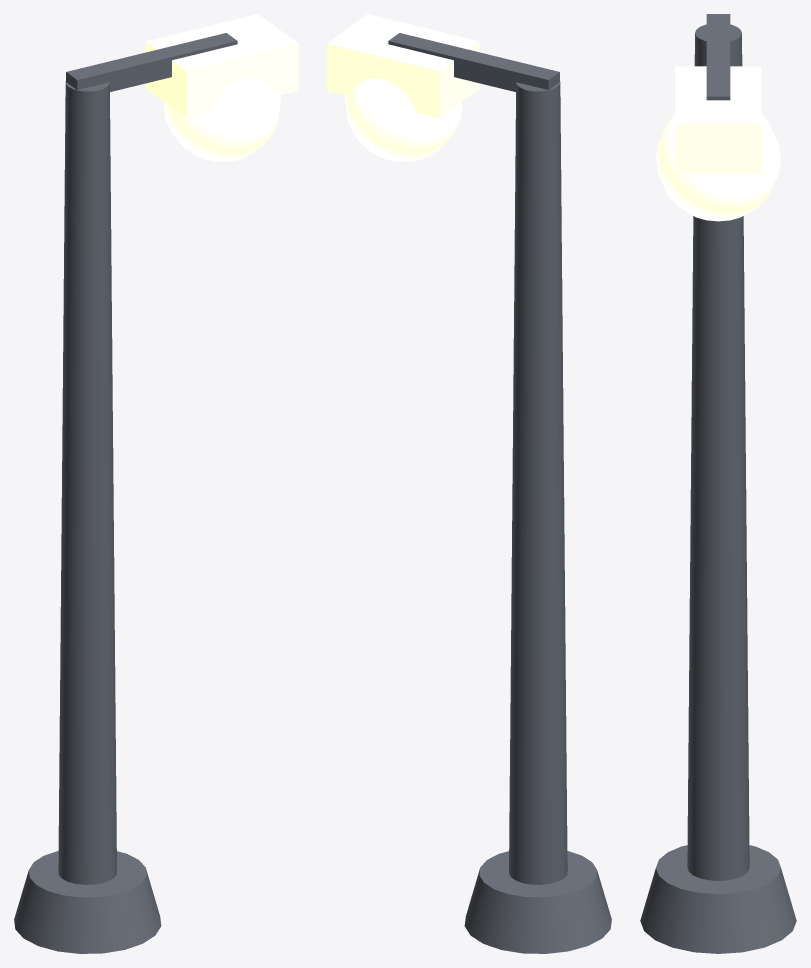
Rendered from lamp.glb.
3 renders of one model, left to right at view 1: azimuth 30°, elevation 25°; view 2: azimuth 150°, elevation 25°; view 3: azimuth 270°, elevation 25°, orthographic. The views are drawn at different scales.
Size of what is drawn, in the model's own units: 0.795 by 2.54 by 0.4.
